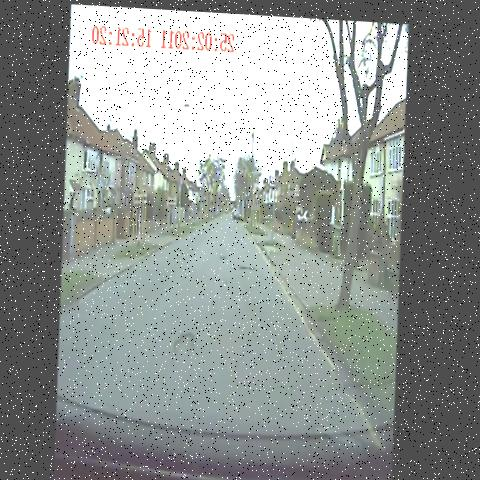pothole: (170, 314, 202, 386), (239, 250, 262, 274), (216, 240, 234, 264)
